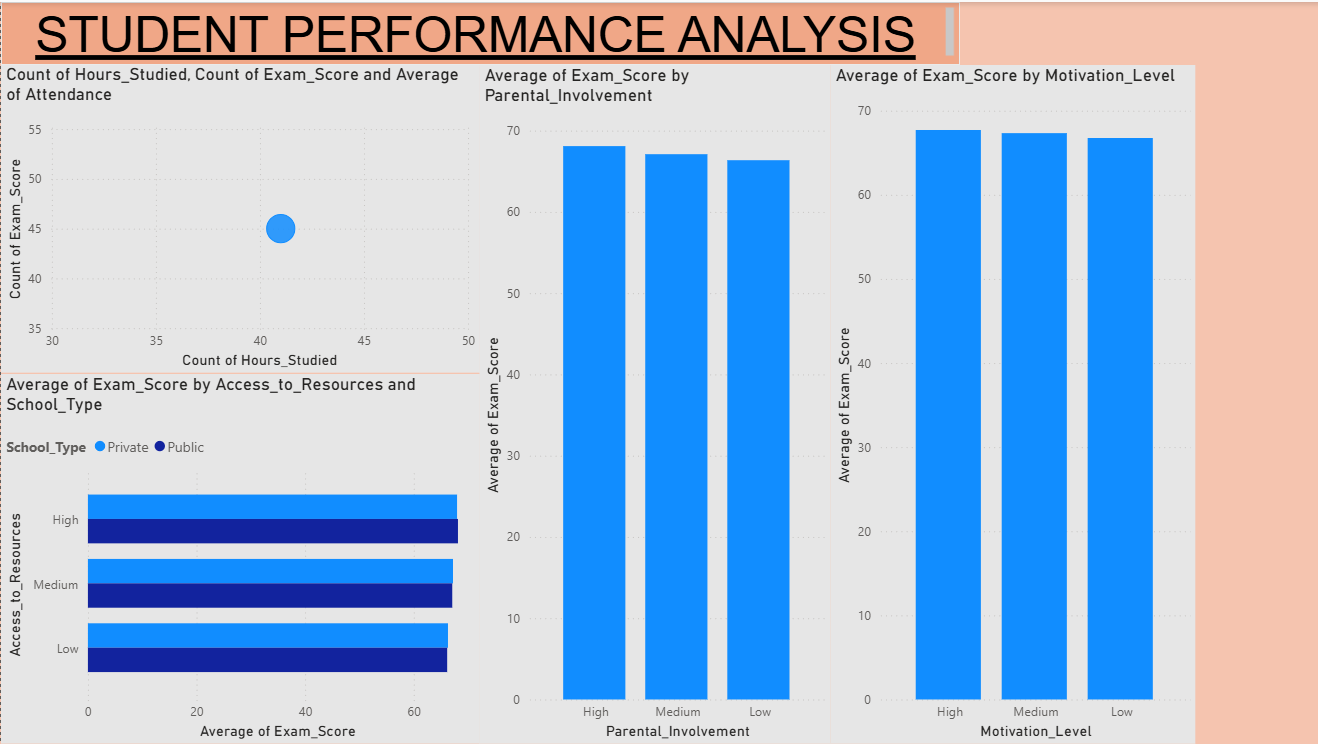

This screenshot's page, from the dashboard's own definition file:
{"tool":"powerbi","page":{"name":"Page 1","canvas":[1280,720],"ordinal":0},"visuals":[{"type":"scatterChart","fields":{"Size":["Avg(StudentPerformanceFactors.Attendance)"],"X":["Count(StudentPerformanceFactors.Hours_Studied)"],"Y":["Count(StudentPerformanceFactors.Exam_Score)"]},"box":[0,59.9,464.9,299.8],"z":0},{"type":"textbox","box":[0,0,929.8,60.5],"z":1000},{"type":"clusteredColumnChart","fields":{"Category":["StudentPerformanceFactors.Parental_Involvement"],"Y":["Avg(StudentPerformanceFactors.Exam_Score)"]},"box":[464.9,60.6,340.7,658.7],"z":2000},{"type":"clusteredColumnChart","fields":{"Category":["StudentPerformanceFactors.Motivation_Level"],"Y":["Avg(StudentPerformanceFactors.Exam_Score)"]},"box":[805.6,60.6,354.3,658.7],"z":3000},{"type":"clusteredBarChart","fields":{"Category":["StudentPerformanceFactors.Access_to_Resources"],"Series":["StudentPerformanceFactors.School_Type"],"Y":["Avg(StudentPerformanceFactors.Exam_Score)"]},"box":[0,360.4,464.9,358.9],"z":4000}]}

Visuals, with their boxes in screenshot pixels (x1, y1, x2, y2), scaled from the page's 1280x720 canvas onto the 1318x744 screenshot:
scatterChart - Avg(StudentPerformanceFactors.Attendance) x Count(StudentPerformanceFactors.Hours_Studied): box=[0, 62, 479, 372]
textbox: box=[0, 0, 957, 63]
clusteredColumnChart - StudentPerformanceFactors.Parental_Involvement x Avg(StudentPerformanceFactors.Exam_Score): box=[479, 63, 830, 743]
clusteredColumnChart - StudentPerformanceFactors.Motivation_Level x Avg(StudentPerformanceFactors.Exam_Score): box=[830, 63, 1194, 743]
clusteredBarChart - StudentPerformanceFactors.Access_to_Resources x StudentPerformanceFactors.School_Type: box=[0, 372, 479, 743]
